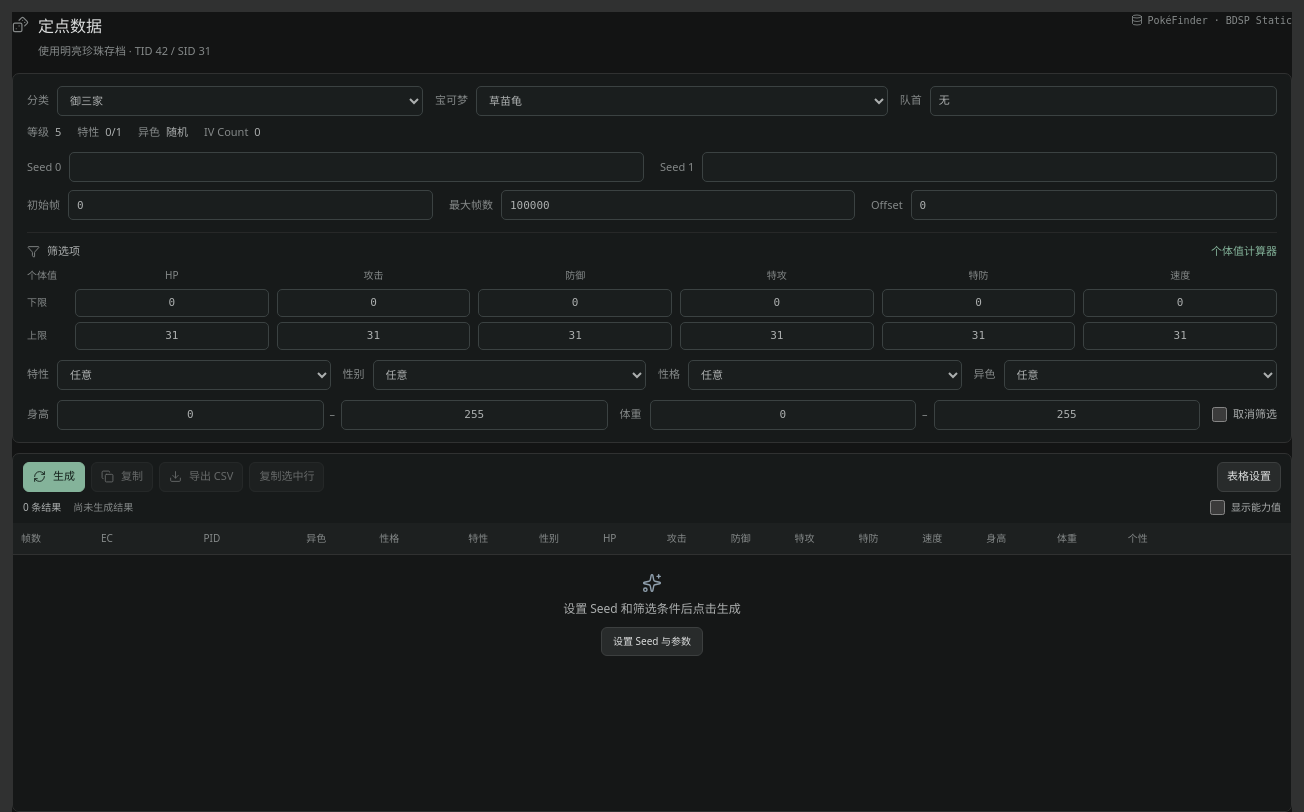
Test: filters version-exclusive targets and displays the upstream readonly template values
Type "FFFFFFFFFFFFFFFF" into the field labelled "Seed 0" at [357, 167], box [69,152,644,182]
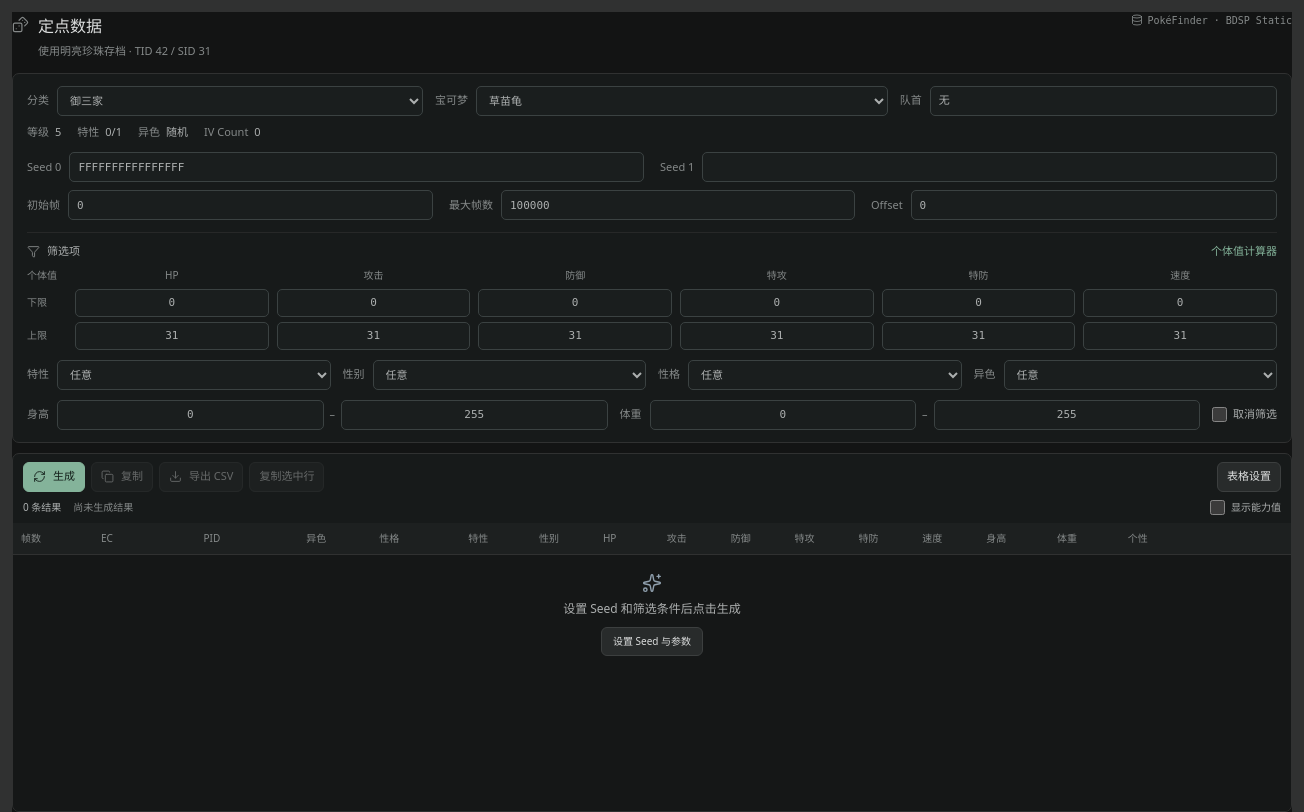
Type "0123456789ABCDEF" into the field labelled "Seed 1" at [990, 167], box [702,152,1277,182]
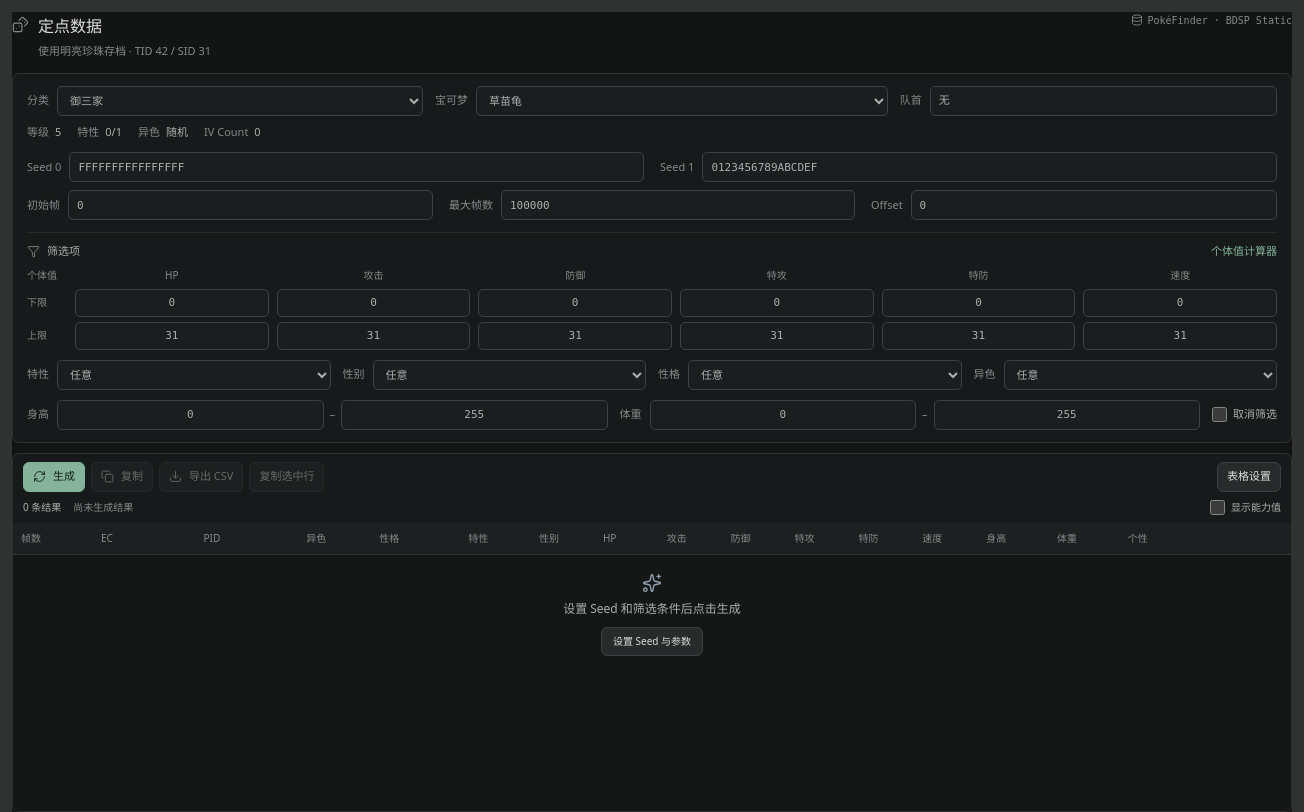
Select "传说" in the dropdown labelled "分类" at [240, 100], box [57,86,423,116]
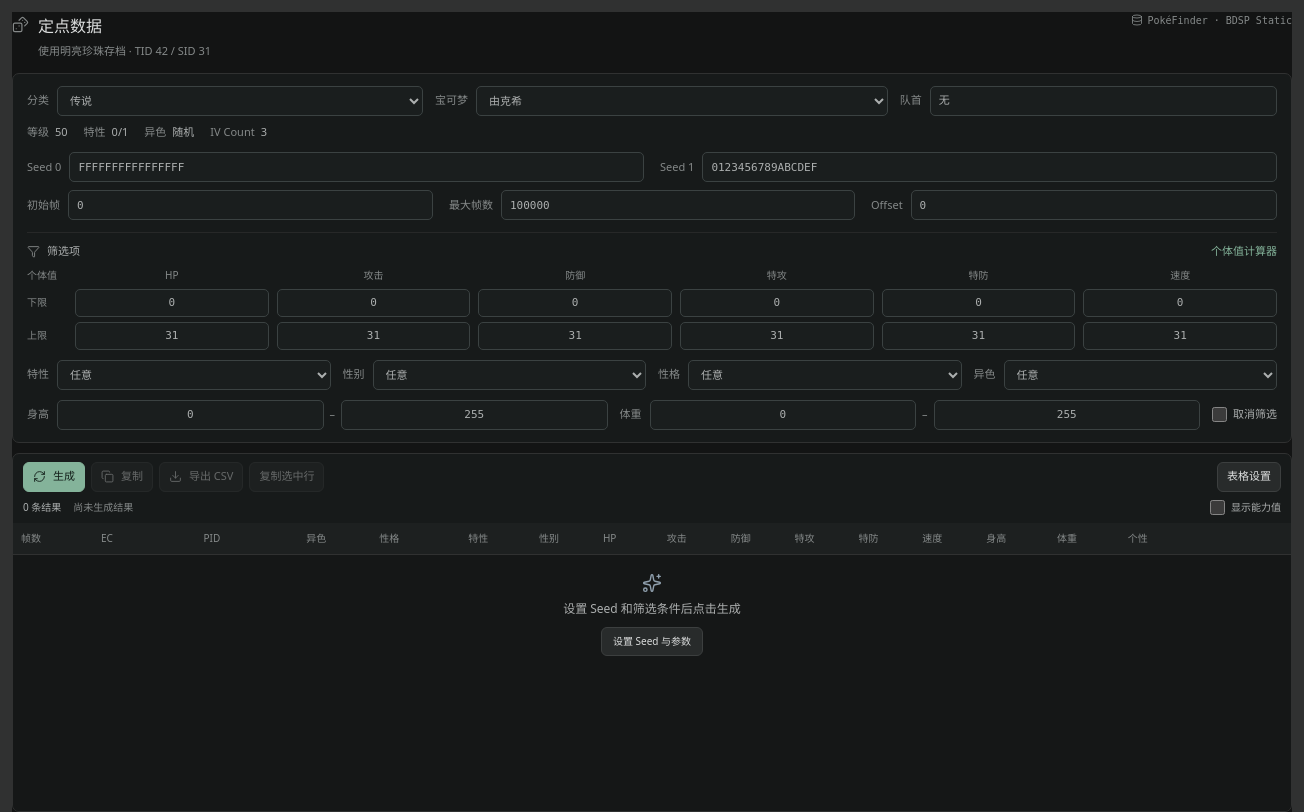
Select "玫瑰公园（纯净空间）" in the dropdown labelled "分类" at [240, 100], box [57,86,423,116]
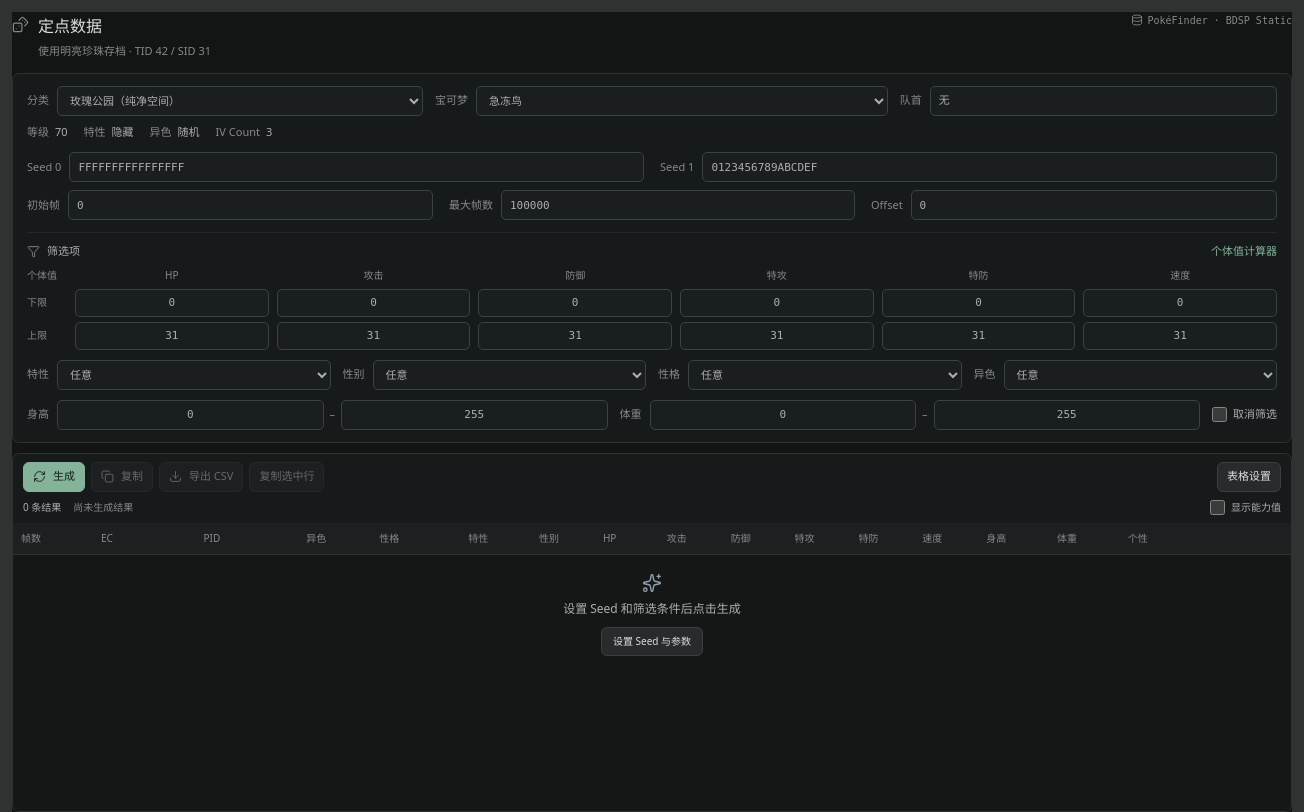
Now the text named "目标特性" reads "隐藏", box [112,124,134,138]
Select "幻兽" in the dropdown labelled "分类" at [240, 100], box [57,86,423,116]
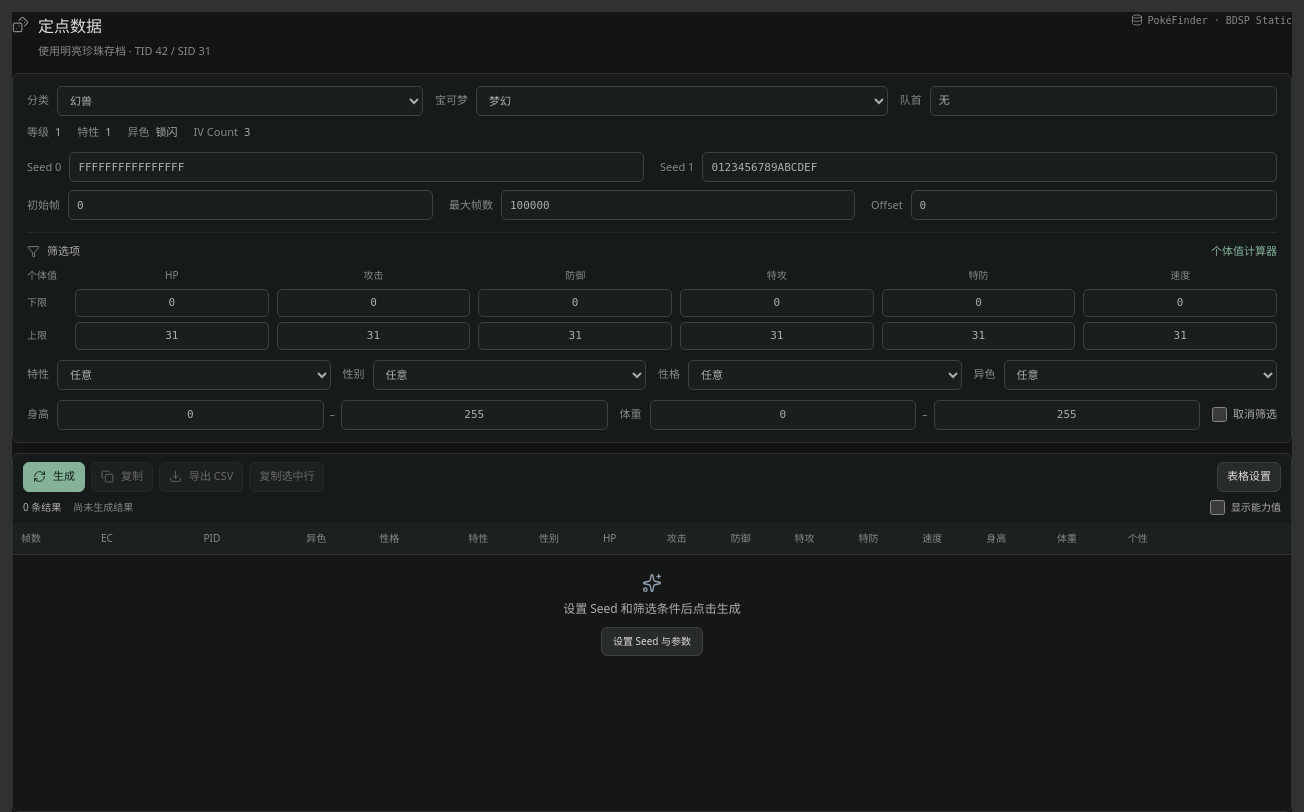
Now the text named "等级" reads "1", box [55,124,61,138]
